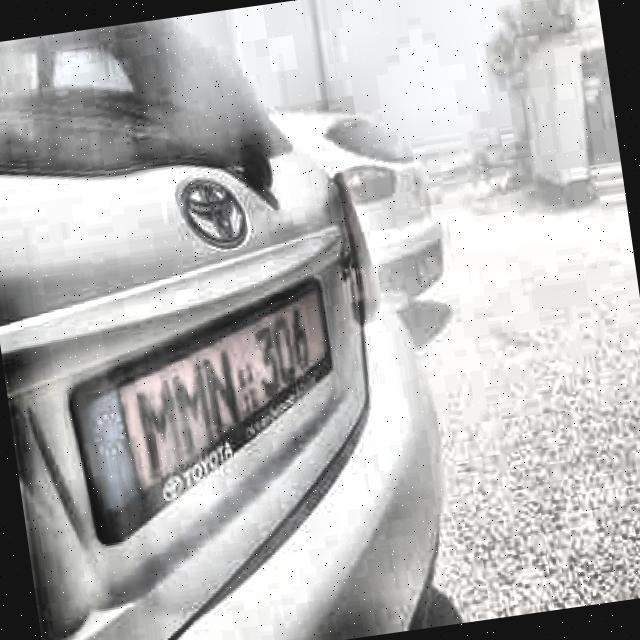license_plate: (111, 300, 334, 491)
